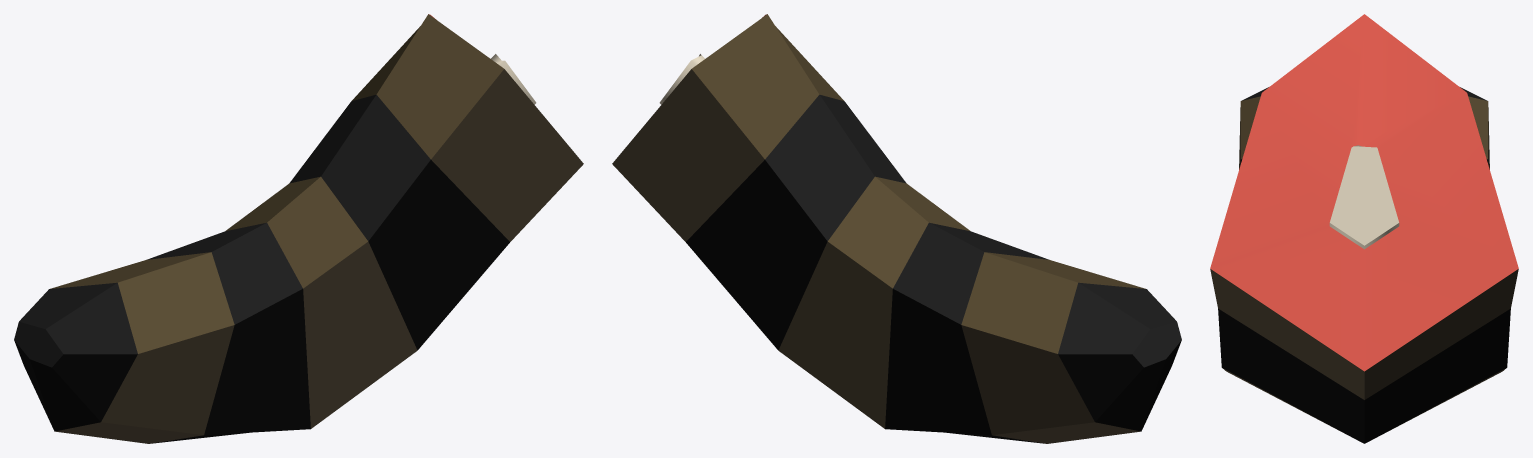
File: racoon-tail.glb
3 views of the same model, side by side, from view 1: azimuth 30°, elevation 25°; view 2: azimuth 150°, elevation 25°; view 3: azimuth 270°, elevation 25° (orthographic). The views are drawn at different scales.
Parts seen in each view (by area): view 1: Tail; view 2: Tail; view 3: Tail.
Part boxes in pixels (x1,y1,x2,y2): Tail: [14, 14, 583, 443]; Tail: [612, 14, 1181, 443]; Tail: [1210, 14, 1518, 443].
Size of the model in its own units: 1.69 by 1.13 by 0.6024.
